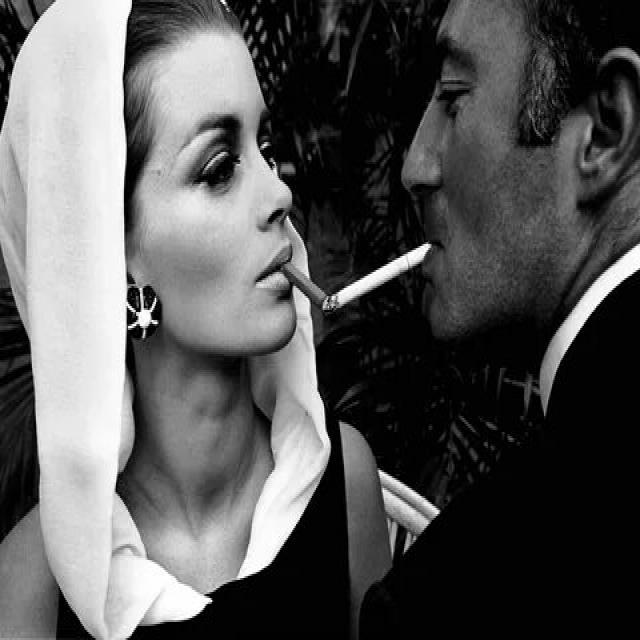smoke: (332, 232, 437, 324), (280, 246, 331, 326)
